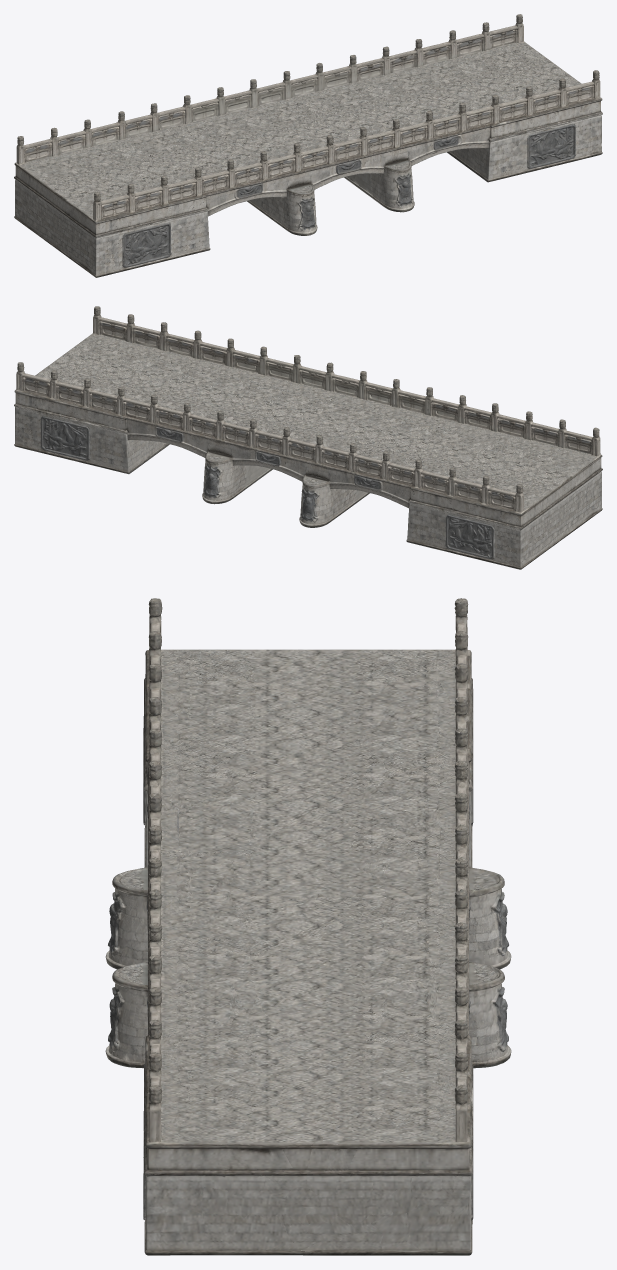
File: bridge.glb
3 views of the same model, one above another, from view 1: azimuth 30°, elevation 25°; view 2: azimuth 150°, elevation 25°; view 3: azimuth 270°, elevation 25° (orthographic). The views are drawn at different scales.
Size of the model in its own units: 1.9 by 0.2981 by 0.6585.
1 material, 1 textured.
